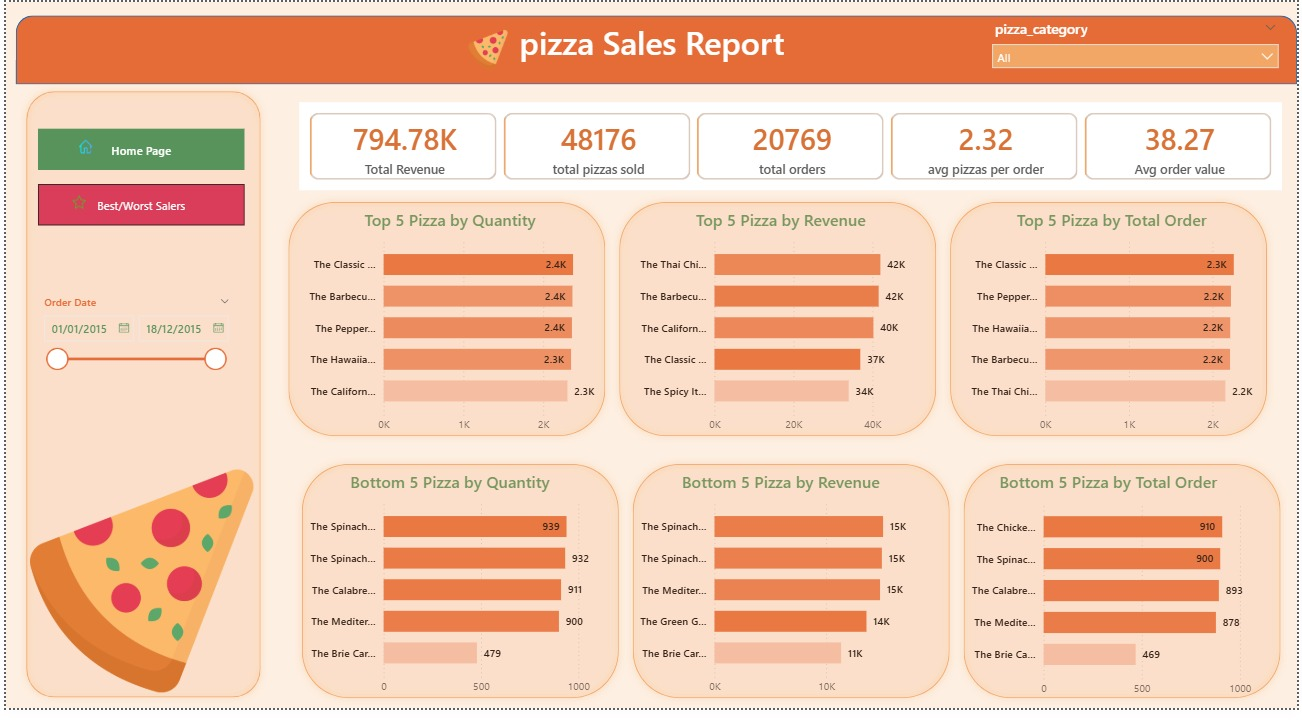

The dashboard page shown, as its layout file describes it:
{"tool":"powerbi","page":{"name":"Best/Worst Salers","canvas":[1500,820],"ordinal":1},"visuals":[{"type":"cardVisual","fields":{"Data":["pizza_sales.Total Revenue","pizza_sales.total pizzas sold","pizza_sales.total orders","pizza_sales.avg pizzas per order","pizza_sales.Avg order value"]},"box":[336,112,1152,112],"z":0},{"type":"shape","box":[12,16,1488,80],"z":1000},{"type":"textbox","box":[592,16,384,64],"z":2000},{"type":"image","box":[512,32,96,48],"z":3000},{"type":"shape","box":[16,96,288,720],"z":4000},{"type":"slicer","fields":{"Values":["pizza_sales.pizza_category"]},"box":[1136,16,352,64],"z":5000},{"type":"image","box":[21.2,528,272,288],"z":6000},{"type":"pageNavigator","box":[37.2,147.5,240,48],"z":7000},{"type":"pageNavigator","box":[37.2,211.5,240,48],"z":8000},{"type":"image","box":[53.2,224,64,16],"z":9000},{"type":"image","box":[69.2,160,48,16],"z":10000},{"type":"slicer","fields":{"Values":["pizza_sales.order_date"]},"box":[32,336,240,128],"z":11000},{"type":"barChart","title":"Top 5 Pizza by Revenue","fields":{"Y":["pizza_sales.Total Revenue"],"Category":["pizza_sales.pizza_name"]},"box":[720,240,360,270],"z":12000},{"type":"barChart","title":"Bottom 5 Pizza by Revenue","fields":{"Y":["pizza_sales.Total Revenue"],"Category":["pizza_sales.pizza_name"]},"box":[720,544,360,270],"z":13000},{"type":"barChart","title":"Top 5 Pizza by Quantity","fields":{"Y":["Sum(pizza_sales.quantity)"],"Category":["pizza_sales.pizza_name"]},"box":[336,240,360,270],"z":14000},{"type":"barChart","title":"Bottom 5 Pizza by Quantity","fields":{"Y":["Sum(pizza_sales.quantity)"],"Category":["pizza_sales.pizza_name"]},"box":[336,544,360,270],"z":15000},{"type":"barChart","title":"Top 5 Pizza by Total Order","fields":{"Y":["pizza_sales.total orders"],"Category":["pizza_sales.pizza_name"]},"box":[1104,240,360,270],"z":16000},{"type":"barChart","title":"Bottom 5 Pizza by Total Order","fields":{"Y":["pizza_sales.total orders"],"Category":["pizza_sales.pizza_name"]},"box":[1104,544,352,272],"z":17000},{"type":"shape","box":[336,528,384,288],"z":18000},{"type":"shape","box":[720,528,384,288],"z":18001},{"type":"shape","box":[1104,528,384,288],"z":18002},{"type":"shape","box":[1088,224,384,288],"z":18003},{"type":"shape","box":[704,224,384,288],"z":18004},{"type":"shape","box":[320,224,384,288],"z":18005}]}

Visuals, with their boxes in screenshot pixels (x1, y1, x2, y2), scaled from the page's 1500x820 canvas onto the 1302x720 screenshot:
cardVisual - pizza_sales.Total Revenue x pizza_sales.total pizzas sold: 292, 98, 1292, 197
shape: 10, 14, 1301, 84
textbox: 514, 14, 847, 70
image: 444, 28, 528, 70
shape: 14, 84, 264, 716
slicer - pizza_sales.pizza_category: 986, 14, 1292, 70
image: 18, 464, 254, 716
pageNavigator: 32, 130, 241, 172
pageNavigator: 32, 186, 241, 228
image: 46, 197, 102, 211
image: 60, 140, 102, 155
slicer - pizza_sales.order_date: 28, 295, 236, 407
"Top 5 Pizza by Revenue" barChart: 625, 211, 937, 448
"Bottom 5 Pizza by Revenue" barChart: 625, 478, 937, 715
"Top 5 Pizza by Quantity" barChart: 292, 211, 604, 448
"Bottom 5 Pizza by Quantity" barChart: 292, 478, 604, 715
"Top 5 Pizza by Total Order" barChart: 958, 211, 1271, 448
"Bottom 5 Pizza by Total Order" barChart: 958, 478, 1264, 716
shape: 292, 464, 625, 716
shape: 625, 464, 958, 716
shape: 958, 464, 1292, 716
shape: 944, 197, 1278, 450
shape: 611, 197, 944, 450
shape: 278, 197, 611, 450
